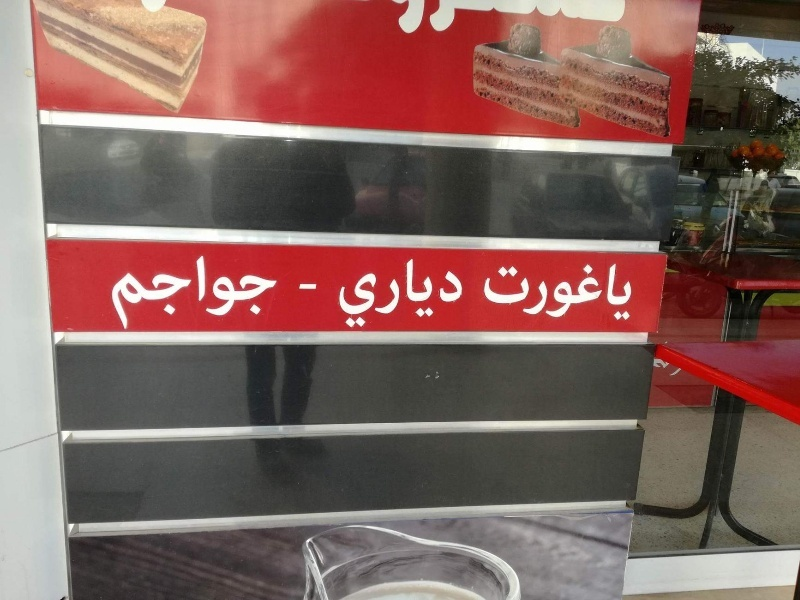text: (113, 253, 128, 331), (129, 253, 144, 331), (145, 253, 160, 331), (161, 253, 176, 331), (177, 253, 192, 331), (193, 253, 208, 331), (209, 253, 224, 331), (225, 253, 240, 331), (241, 253, 256, 331), (257, 253, 272, 331), (353, 257, 368, 329), (369, 257, 384, 329), (385, 257, 400, 329), (401, 257, 416, 329), (417, 257, 432, 329), (433, 257, 448, 329), (449, 257, 464, 329), (338, 257, 352, 329), (497, 258, 512, 323), (513, 258, 528, 323), (529, 258, 544, 323), (545, 258, 560, 323), (561, 258, 576, 323), (577, 258, 592, 323), (593, 258, 608, 323), (609, 258, 624, 323), (625, 258, 635, 323), (487, 258, 496, 323), (273, 253, 279, 331), (110, 253, 112, 331), (305, 282, 317, 291), (299, 282, 304, 291)
